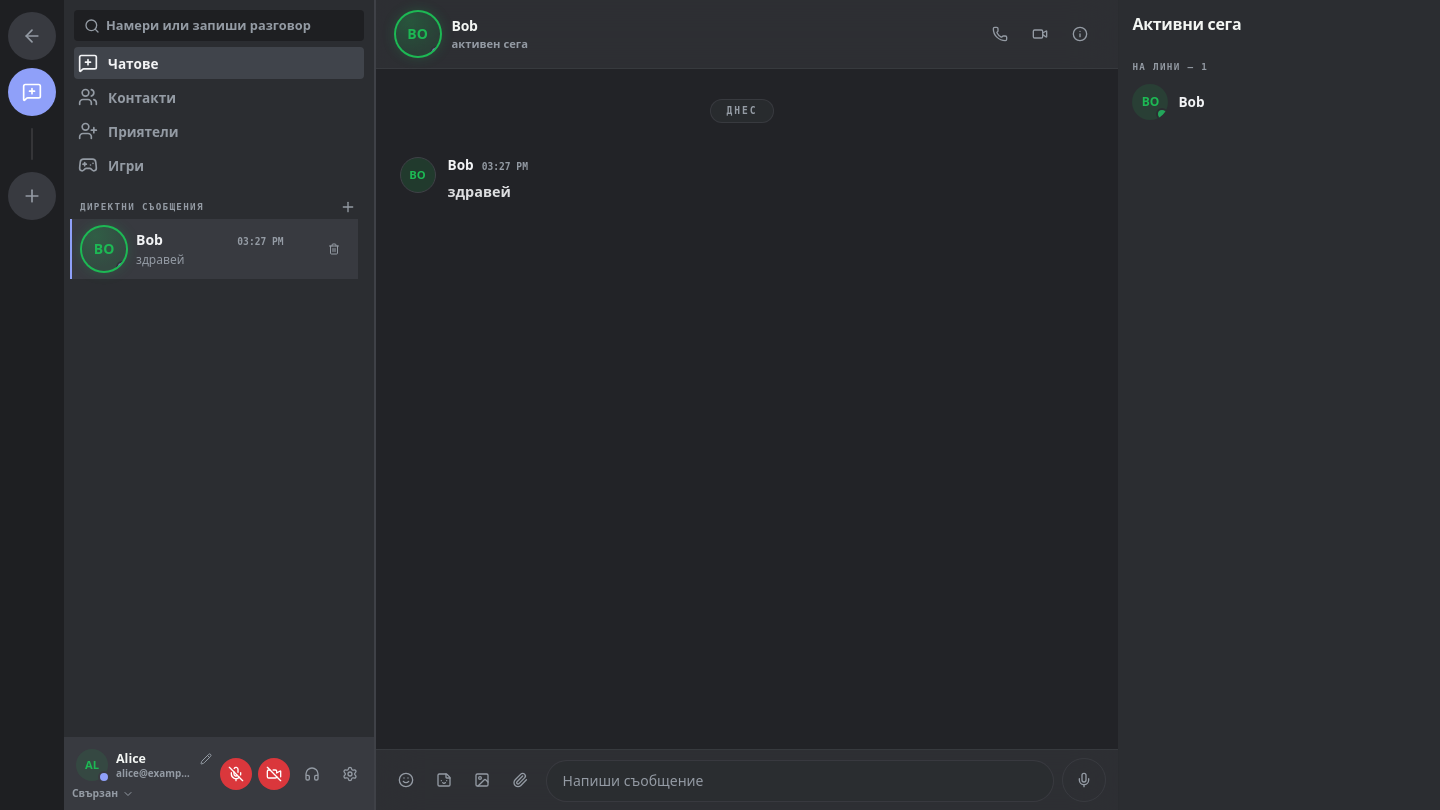
Test: picking a chat theme › opens the same themes from the account panel
The width and height of the screenshot is (1440, 810).
Later steps or results of the test are not shown.
Click the button with aria-label "Настройки на профила".
click(134, 765)  # box [72,745,196,785]
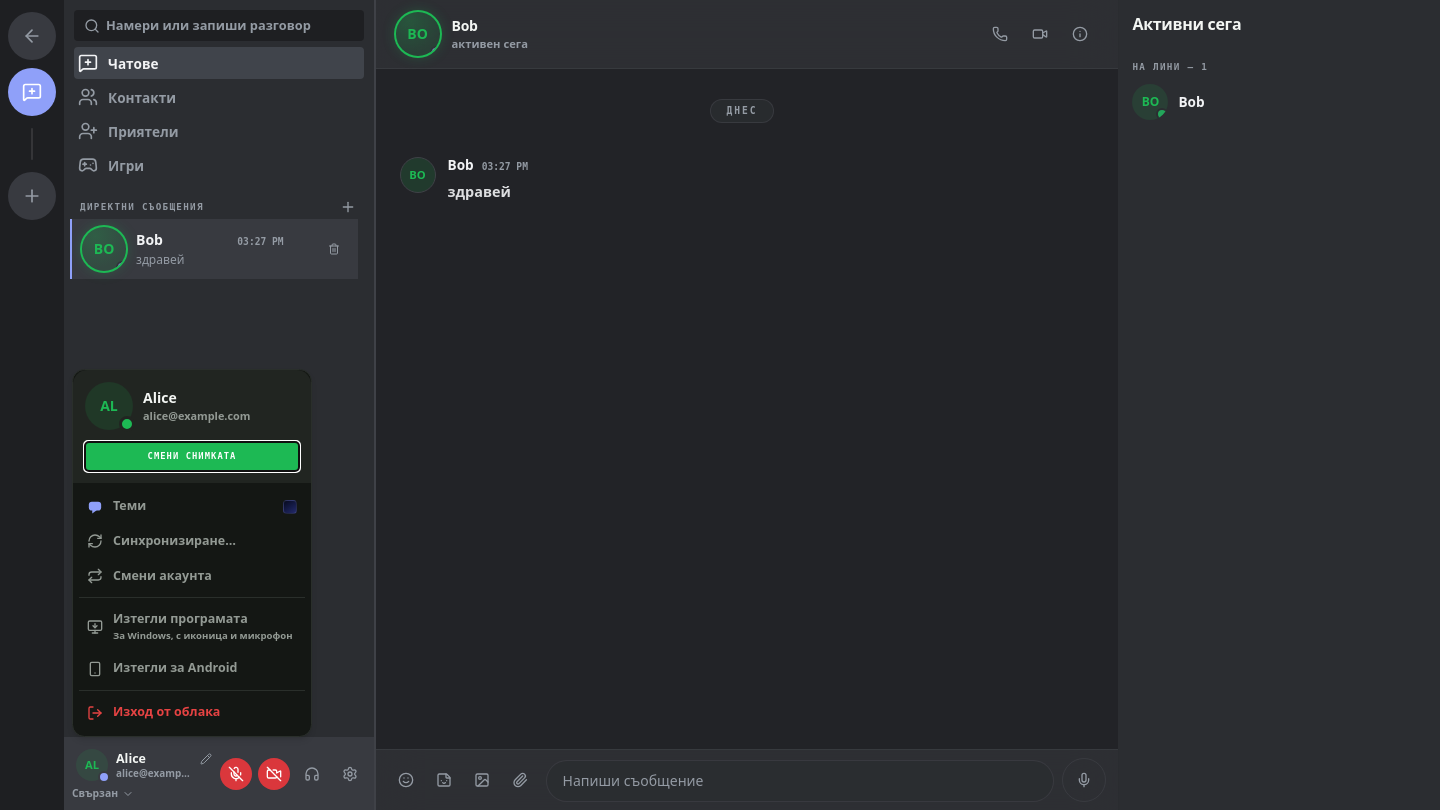
Expected: the button "Теми" is shown, [79,489,305,524]
